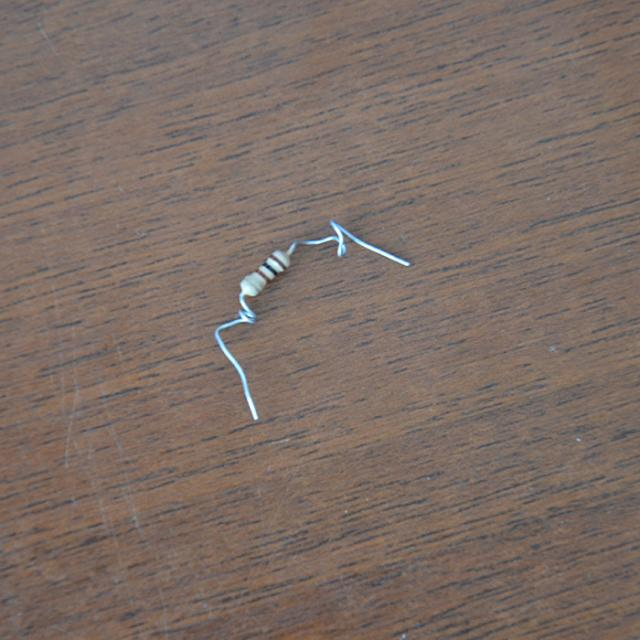Resistor Carbon-Film: (232, 243, 298, 303)
